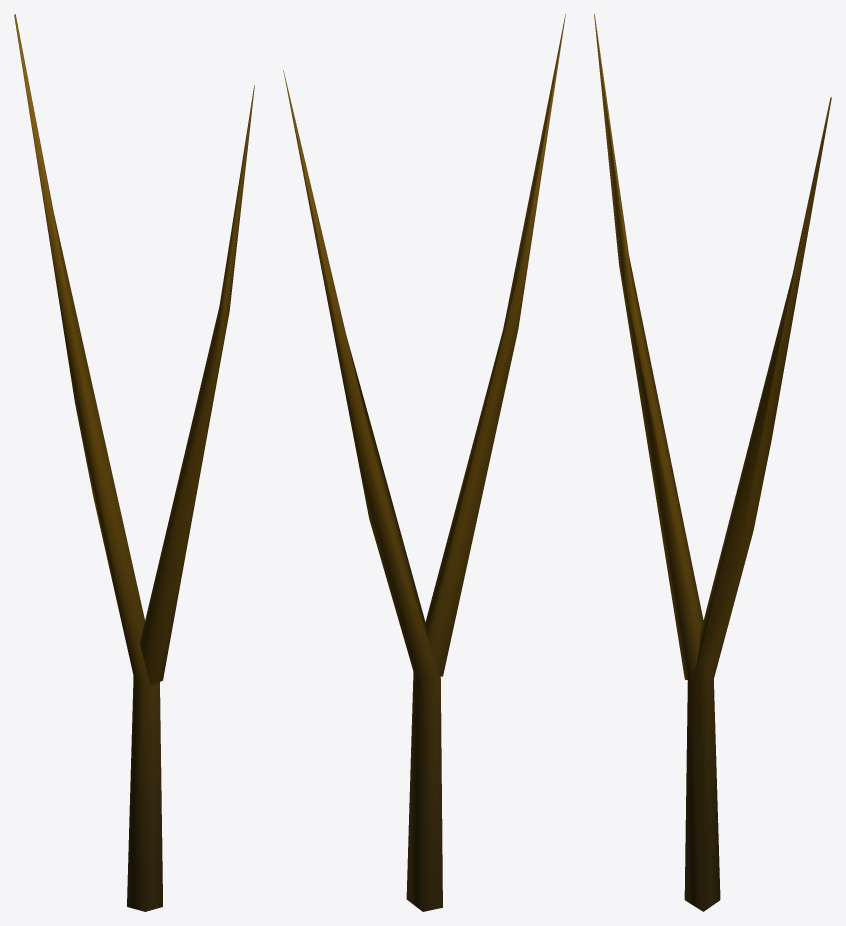
File: TreeRoot.fbx
The picture shows the model from 3 angles, left to right: view 1: azimuth 90°, elevation 25°; view 2: azimuth 150°, elevation 25°; view 3: azimuth 270°, elevation 25°; orthographic projection. The views are drawn at different scales.
Visible parts, largest first — view 1: TreeRoot; view 2: TreeRoot; view 3: TreeRoot.
Part boxes in pixels (x1,y1,x2,y2): TreeRoot: [14, 14, 254, 911]; TreeRoot: [283, 14, 565, 911]; TreeRoot: [594, 14, 831, 911].
Size of the model in its own units: 93.42 by 479 by 122.
